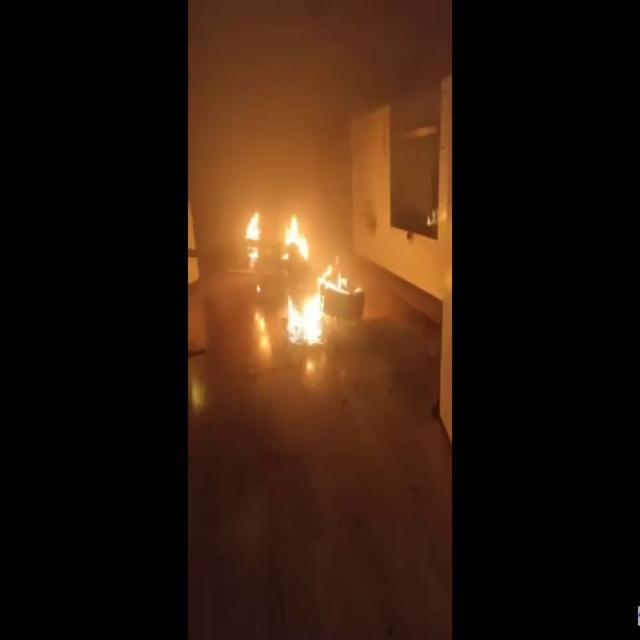Fire: (248, 204, 346, 352)
Smoke: (188, 0, 446, 224)
